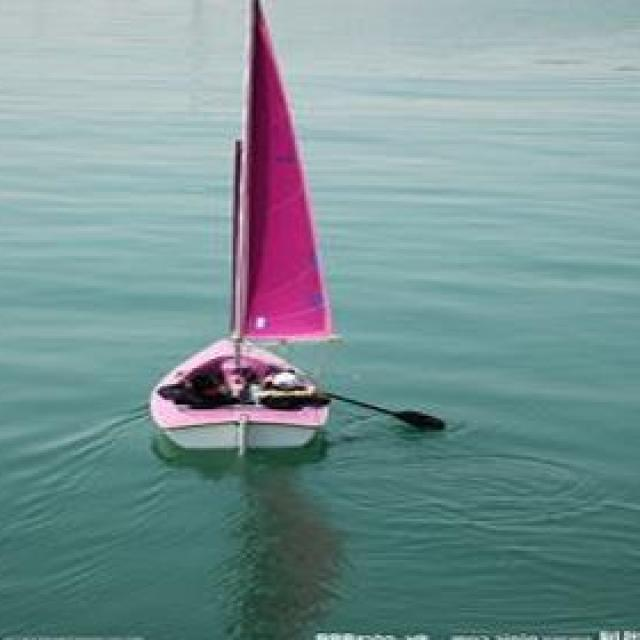sailboat: (146, 0, 345, 459)
